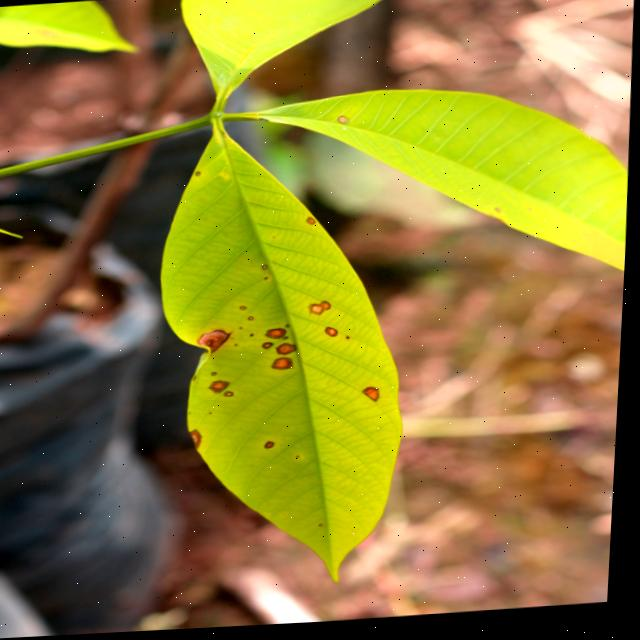Colletotrichum: (278, 345, 301, 358), (213, 381, 234, 395), (275, 359, 297, 372), (366, 389, 383, 405), (268, 330, 290, 341), (312, 305, 328, 317), (328, 329, 341, 340), (323, 302, 334, 313), (339, 117, 351, 127), (269, 442, 279, 451), (308, 219, 318, 228), (265, 344, 276, 351), (227, 393, 238, 399), (242, 307, 251, 312), (264, 266, 271, 271), (250, 318, 257, 322), (215, 373, 221, 377), (289, 326, 294, 330)
